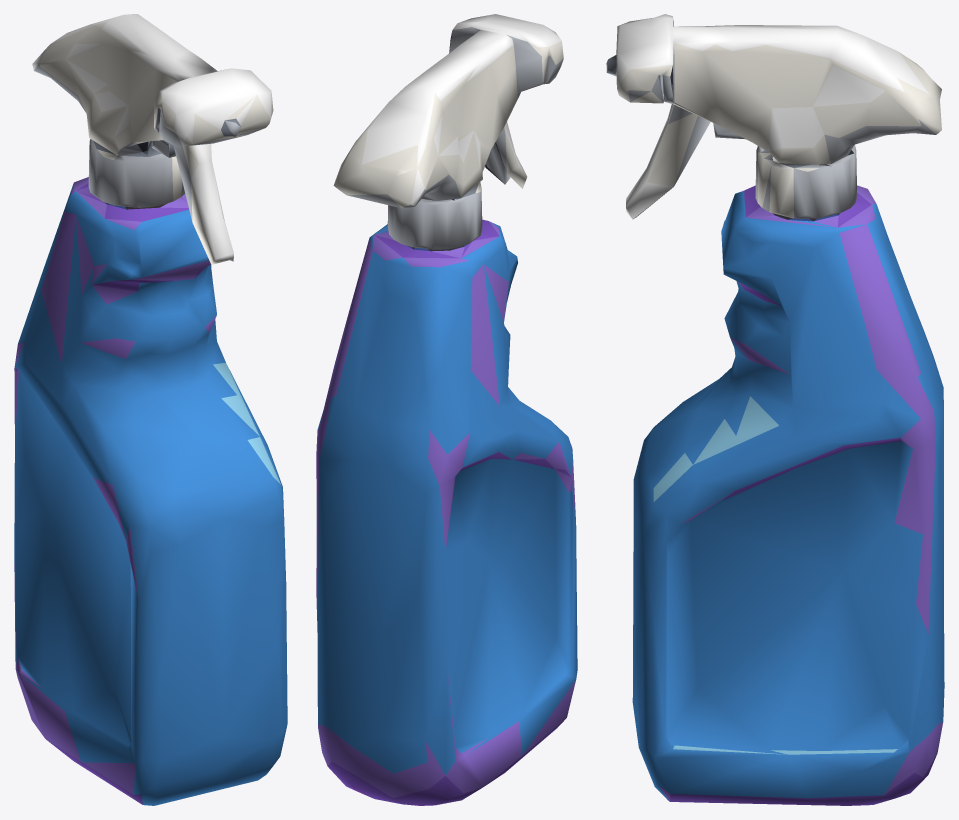
Rendered from SM_spray_bottle.glb.
3 views of the same model, side by side, from view 1: azimuth 30°, elevation 25°; view 2: azimuth 150°, elevation 25°; view 3: azimuth 270°, elevation 25° (orthographic). The views are drawn at different scales.
Parts seen in each view (by area): view 1: SM_spray_bottle; view 2: SM_spray_bottle; view 3: SM_spray_bottle.
Boxes of the visible parts, <box> form: SM_spray_bottle: <box>14,14,287,805</box>; SM_spray_bottle: <box>316,14,577,805</box>; SM_spray_bottle: <box>606,14,944,805</box>.
Size of the model in its own units: 0.0729 by 0.3 by 0.1231.
Materials: 1 (1 with a texture image).
